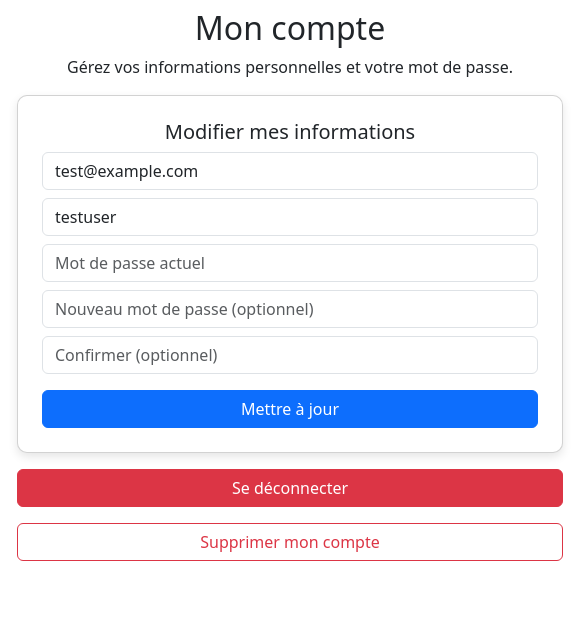
AccountView › affiche un message d'erreur si la suppression de compte échoue
The width and height of the screenshot is (581, 617).
Click the button with class "btn-outline-danger" at x=290, y=542, box [17,523,563,561]
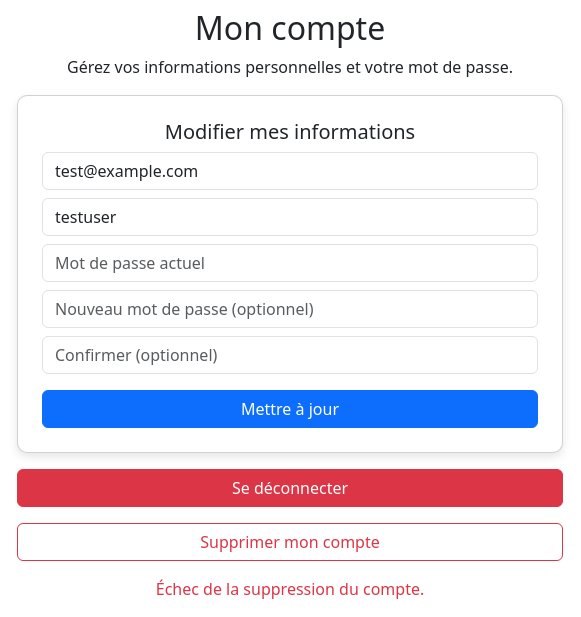
Expected: the text "Échec de la suppression du compte." is shown, [156,578,424,600]
